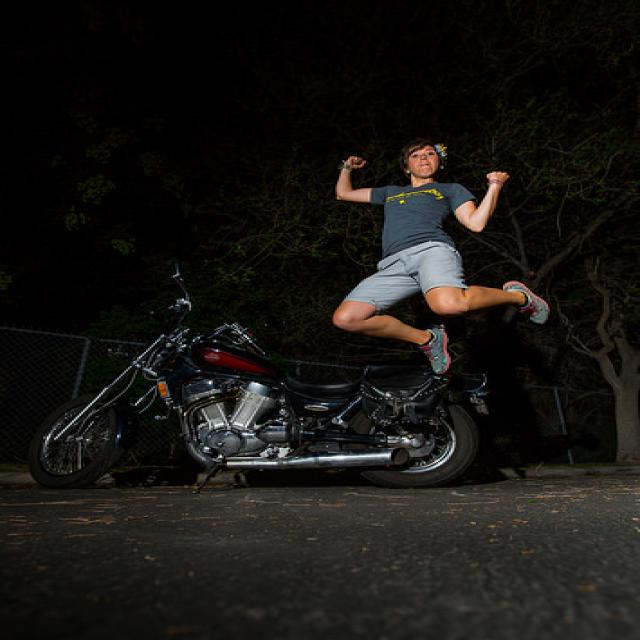Motorbike: (99, 306, 514, 510)
